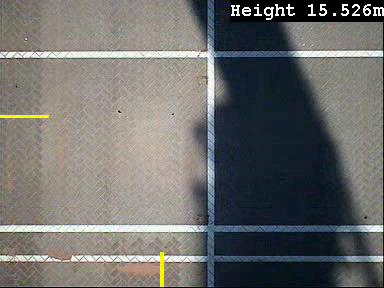groundmarker_2: (153, 29, 240, 75), (192, 223, 234, 288)
